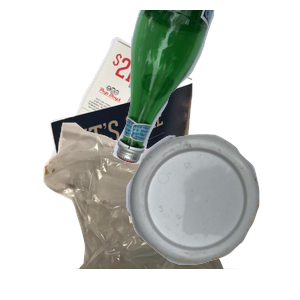glass: (109, 10, 300, 167)
paper: (45, 34, 230, 214)
plastic: (124, 132, 300, 300)
trash: (41, 120, 276, 300)
